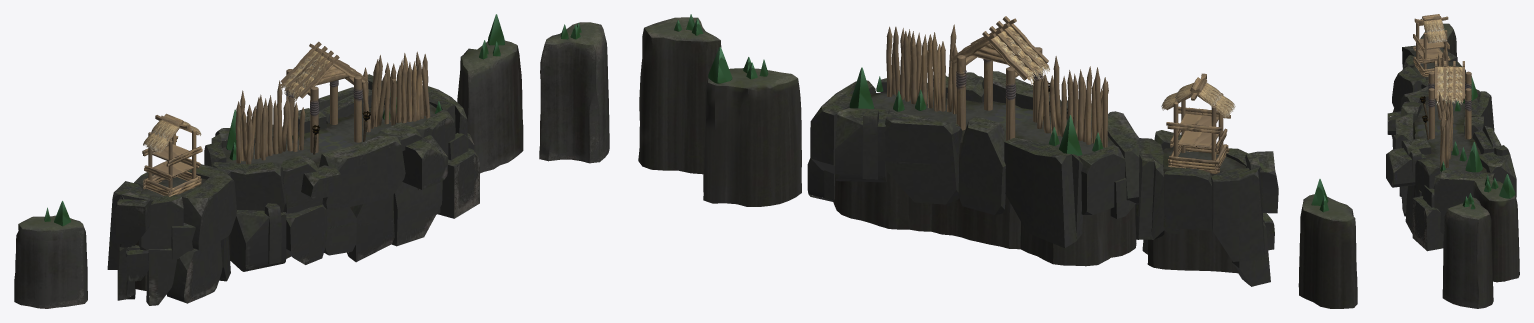
Rendered from fort.glb.
The picture shows the model from 3 angles, left to right: view 1: azimuth 30°, elevation 25°; view 2: azimuth 150°, elevation 25°; view 3: azimuth 270°, elevation 25°; orthographic projection. The views are drawn at different scales.
Parts seen in each view (by area): view 1: fort; view 2: fort; view 3: fort.
Boxes of the visible parts, x1,y1,x2,y2 form: fort: (14,14,609,308); fort: (638,14,1357,308); fort: (1386,14,1519,308).
Bounding box in the file's own units: 5.46 × 1.62 × 1.35.
Materials: 9 (9 with a texture image).
